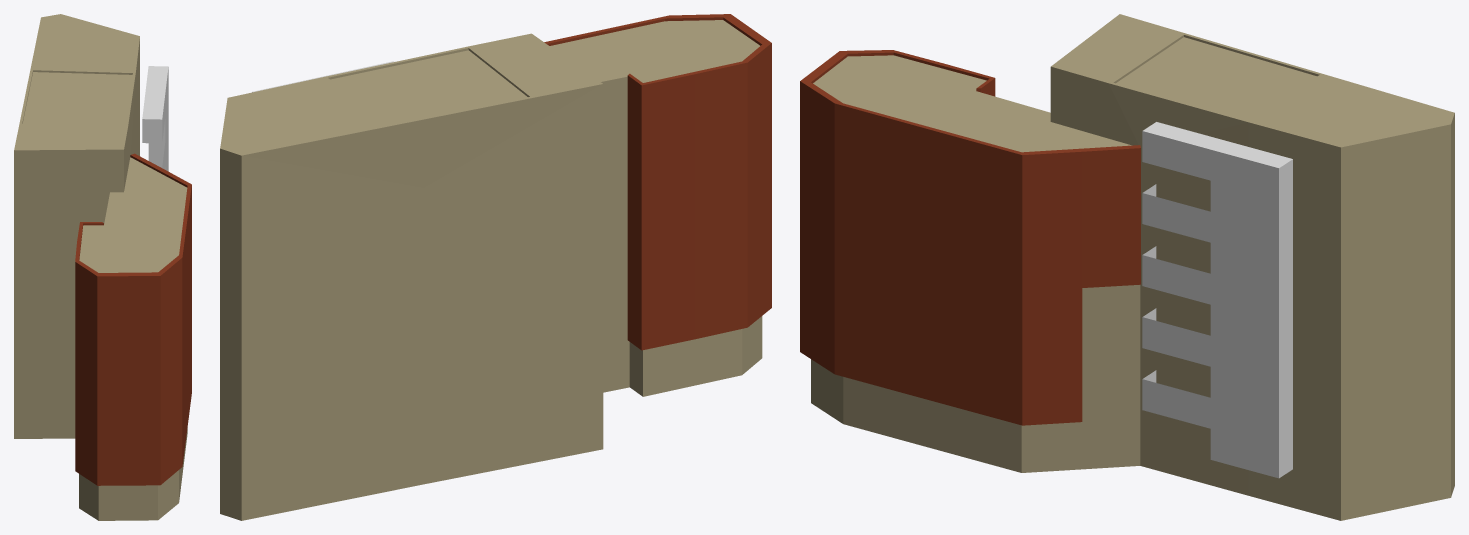
Rendered from f_building_1.fbx.
3 renders of one model, left to right at view 1: azimuth 30°, elevation 25°; view 2: azimuth 150°, elevation 25°; view 3: azimuth 270°, elevation 25°, orthographic. The views are drawn at different scales.
Parts seen in each view (by area): view 1: LOD0; view 2: LOD0; view 3: LOD0.
Boxes of the visible parts, x1,y1,x2,y2 form: LOD0: (14, 14, 191, 520); LOD0: (220, 14, 771, 520); LOD0: (800, 14, 1454, 520).
Size of the model in its own units: 2798 by 3183 by 5056.
